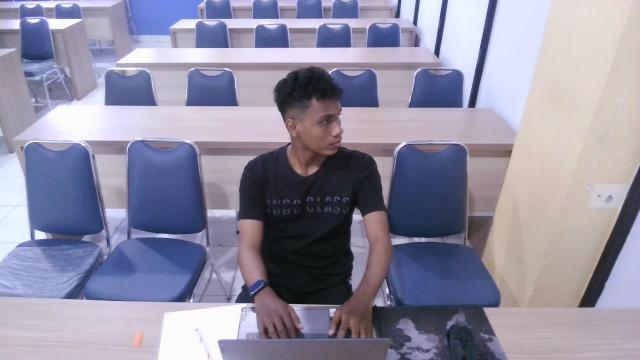Gaze_Aversion: (239, 60, 386, 186)
